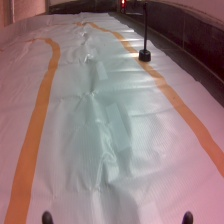red: (118, 1, 153, 67)
